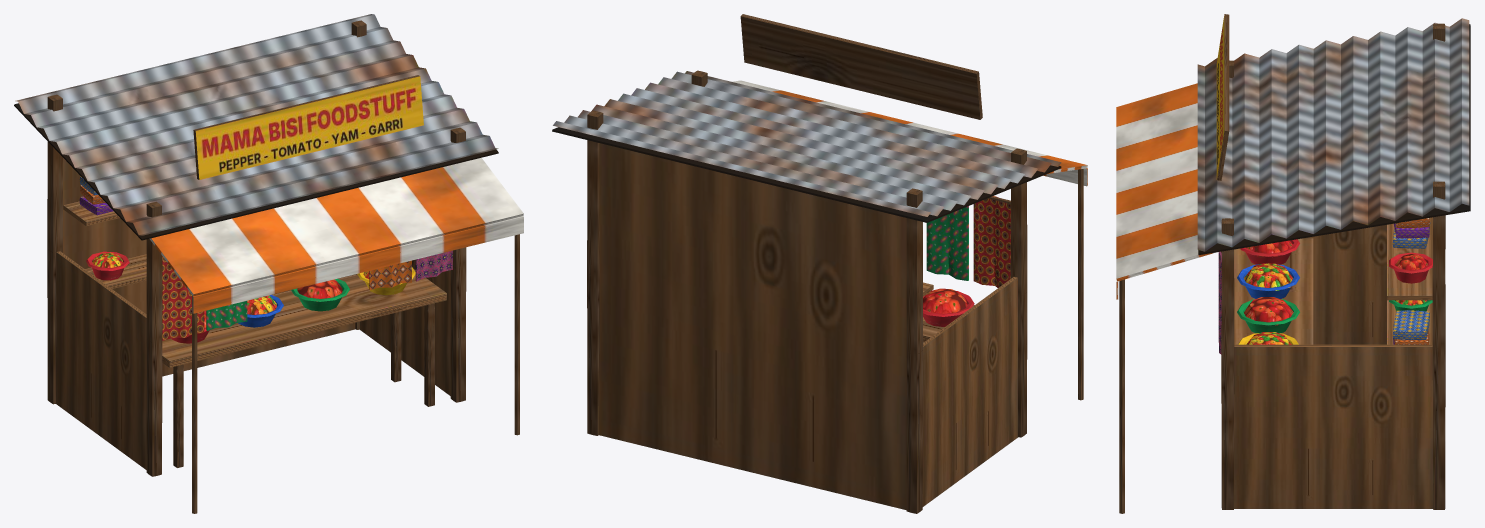
File: mkt_stall.glb
3 renders of one model, left to right at view 1: azimuth 30°, elevation 25°; view 2: azimuth 150°, elevation 25°; view 3: azimuth 270°, elevation 25°, orthographic. The views are drawn at different scales.
Parts seen in each view (by area): view 1: mkt_stall_body; view 2: mkt_stall_body; view 3: mkt_stall_body.
Part boxes in pixels (x1,y1,x2,y2): mkt_stall_body: (14, 14, 523, 513); mkt_stall_body: (552, 14, 1087, 513); mkt_stall_body: (1116, 14, 1470, 513).
Size of the model in its own units: 2.7 by 2.42 by 2.18.
1 material, 1 textured.
